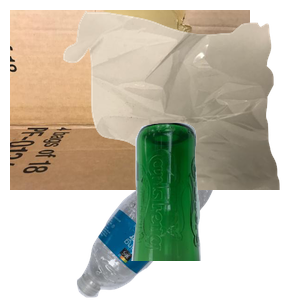cardboard: (10, 10, 250, 190)
glass: (129, 120, 300, 300)
plastic: (74, 156, 280, 300)
trash: (61, 10, 300, 190)
